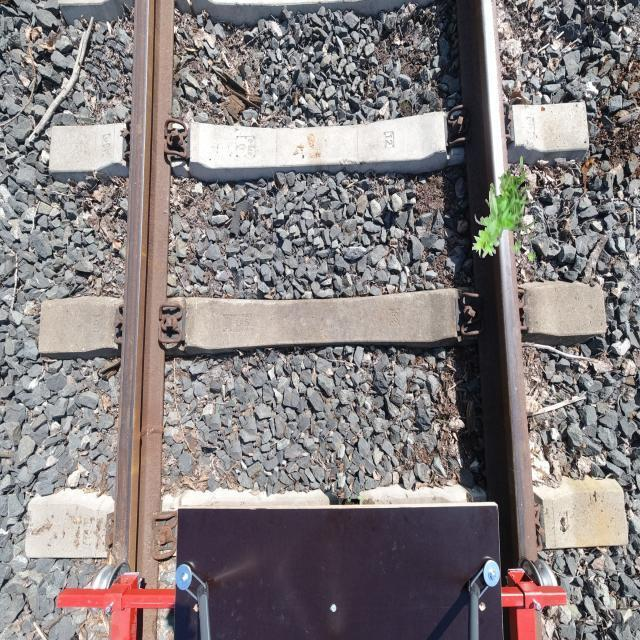Plant: (472, 156, 536, 264)
